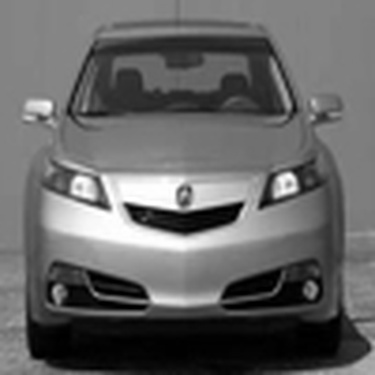car: (13, 12, 362, 360)
